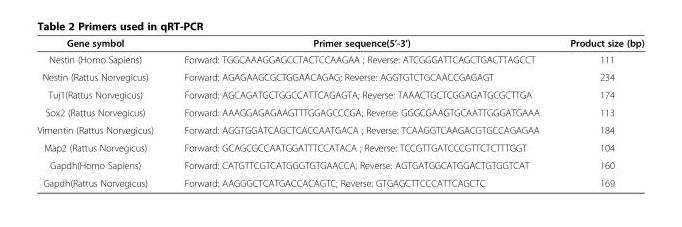table: (36, 36, 643, 188)
table column: (168, 36, 554, 188), (36, 36, 168, 188), (554, 36, 643, 188)
table column header: (36, 36, 643, 50)
table row: (36, 67, 643, 85), (36, 85, 643, 103), (36, 120, 643, 138), (36, 138, 643, 156), (36, 50, 643, 67), (36, 103, 643, 120), (36, 156, 643, 173), (36, 173, 643, 188), (36, 36, 643, 50)
